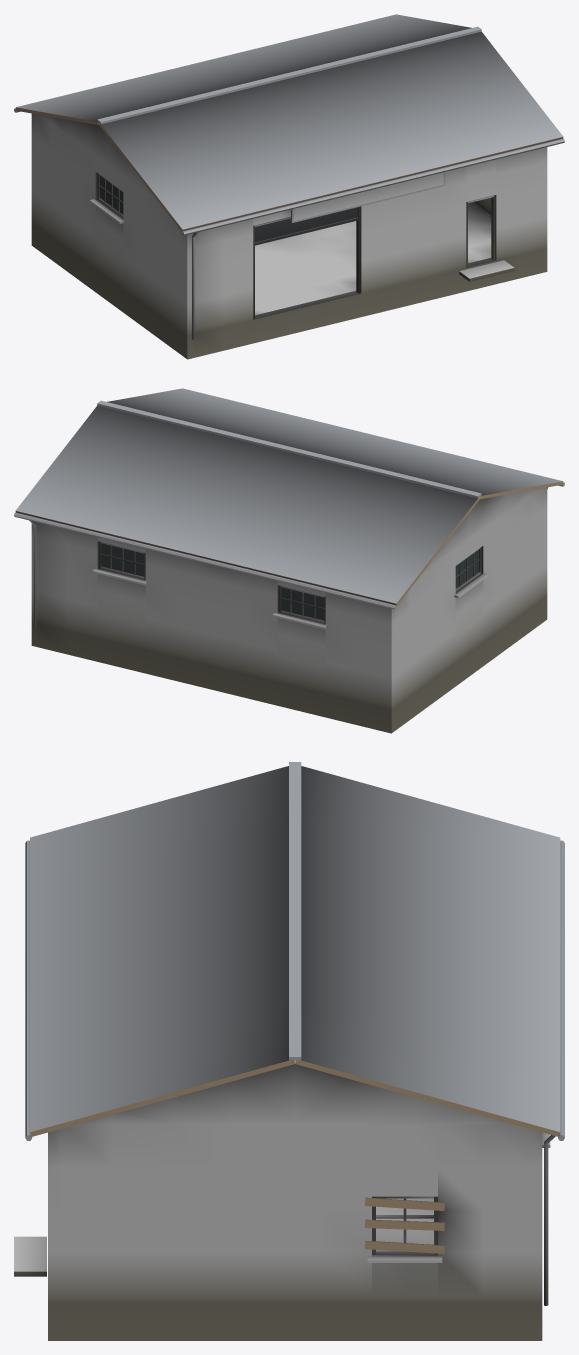
Rendered from workshop.glb.
3 renders of one model, top to bottom at view 1: azimuth 30°, elevation 25°; view 2: azimuth 150°, elevation 25°; view 3: azimuth 270°, elevation 25°, orthographic. The views are drawn at different scales.
Visible parts, largest first — view 1: workshop; view 2: workshop; view 3: workshop.
Boxes of the visible parts, x1,y1,x2,y2 form: workshop: [14, 14, 564, 359]; workshop: [14, 388, 564, 733]; workshop: [14, 762, 564, 1340].
Bounding box in the file's own units: 12.7 × 5.87 × 10.04.
